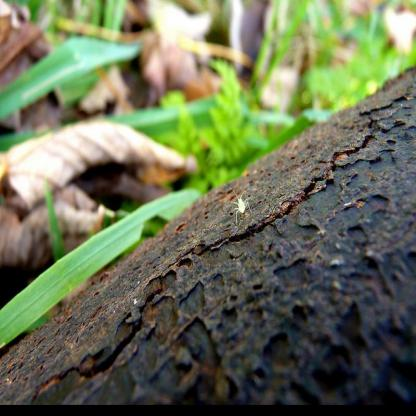aphid: (232, 183, 258, 209)
